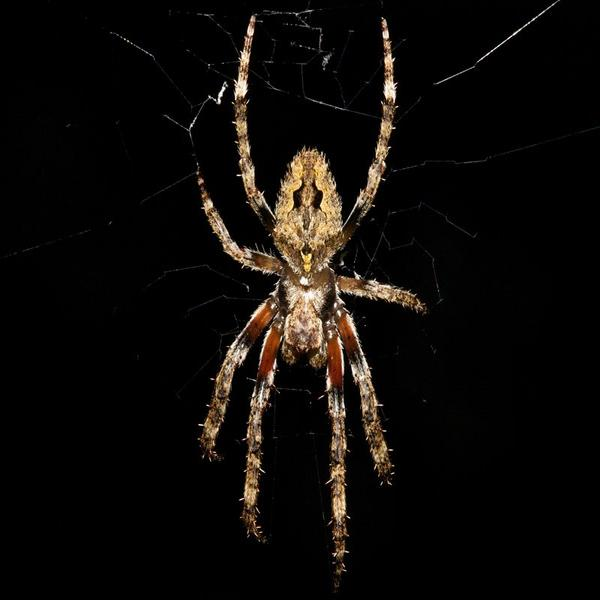Garden_Orb_Weaver_Spider: (196, 15, 429, 584)
